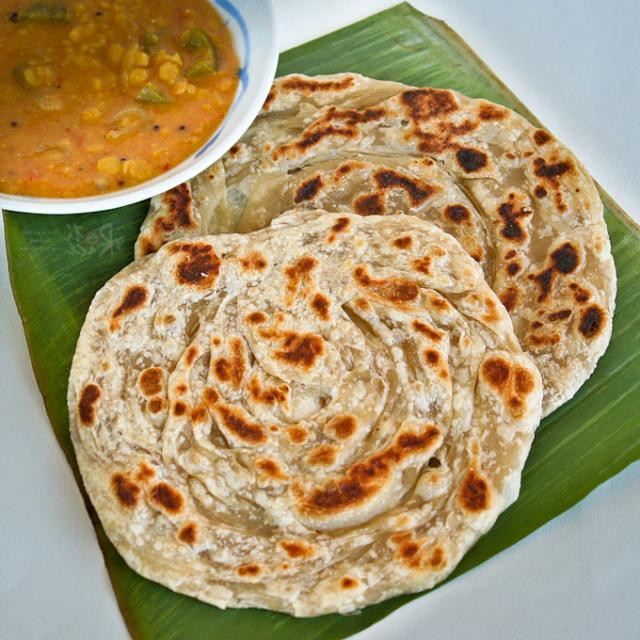Paratha: (103, 58, 599, 476), (74, 220, 522, 596)
